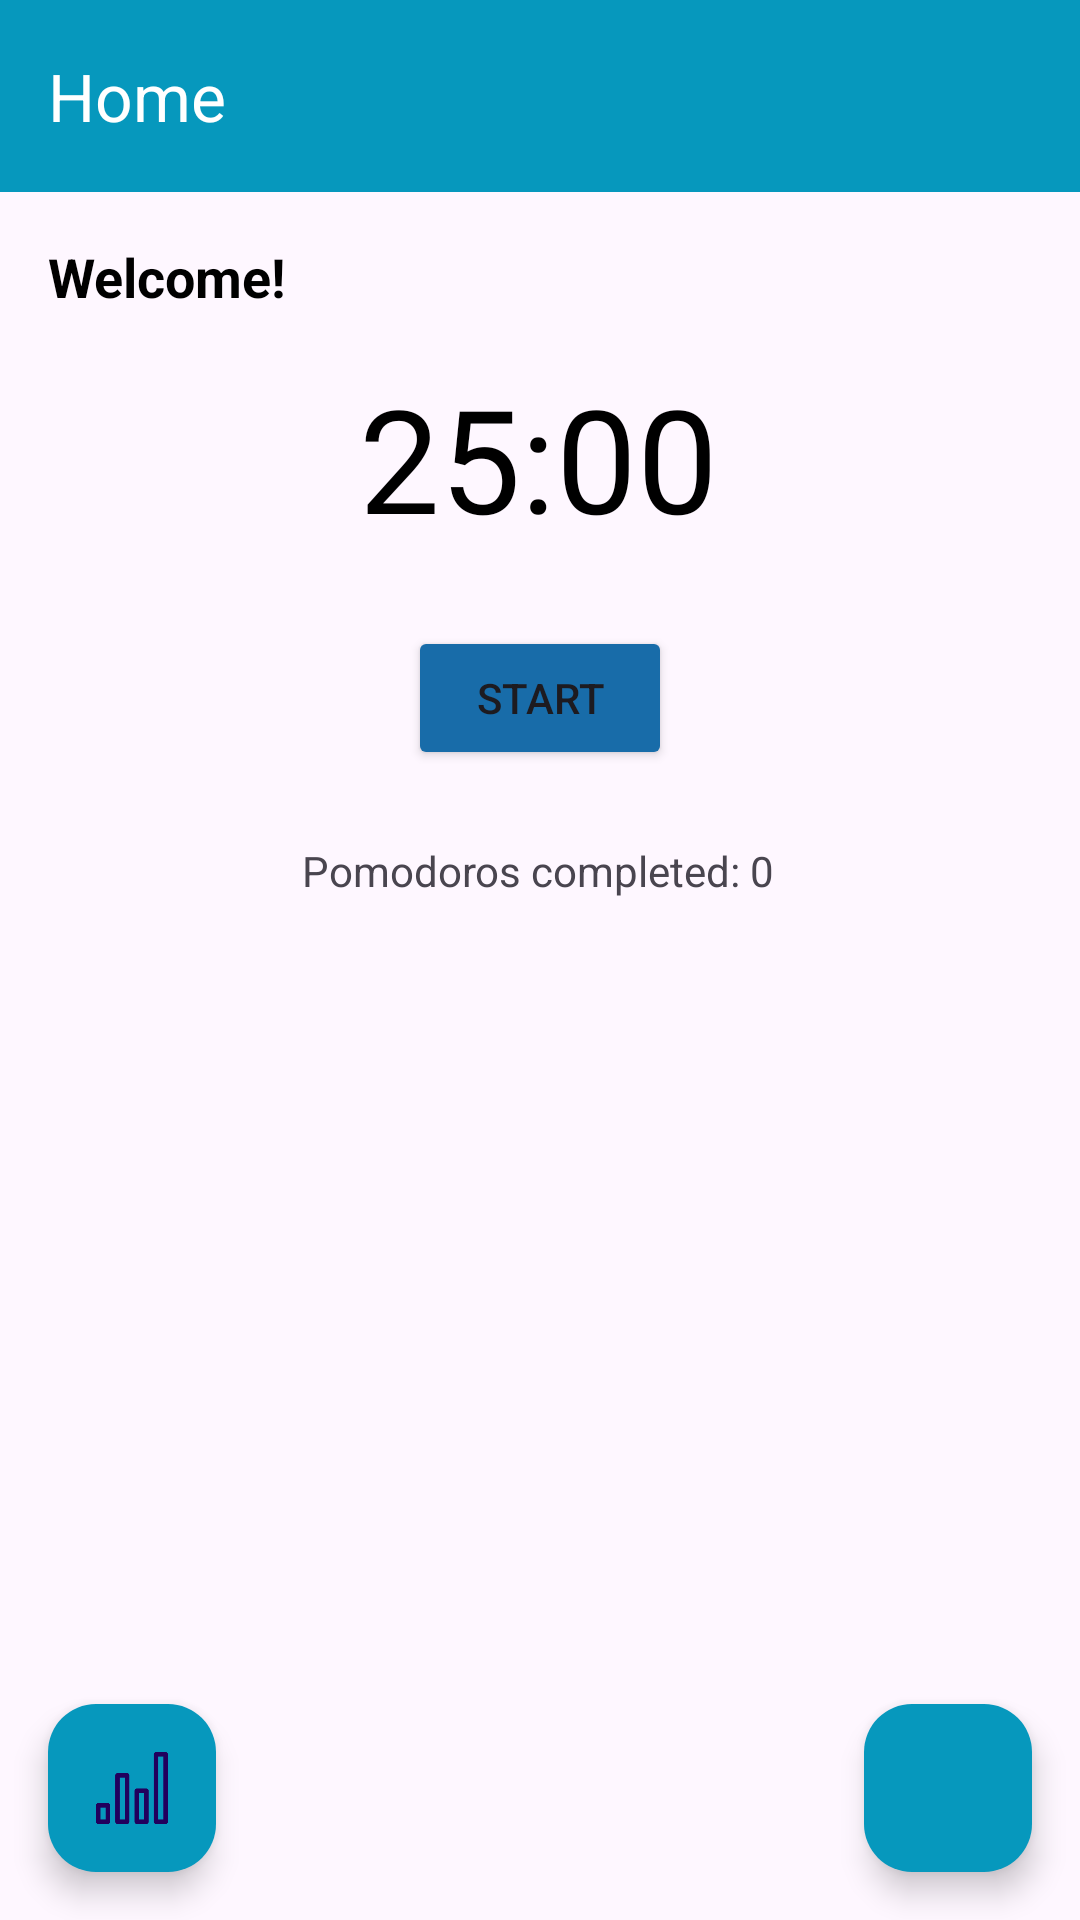

Named icons in this screenshot (1080*1920) and their bounding boxes, (x1, y1, x2, y2):
Stats: (48, 1704, 216, 1872)
